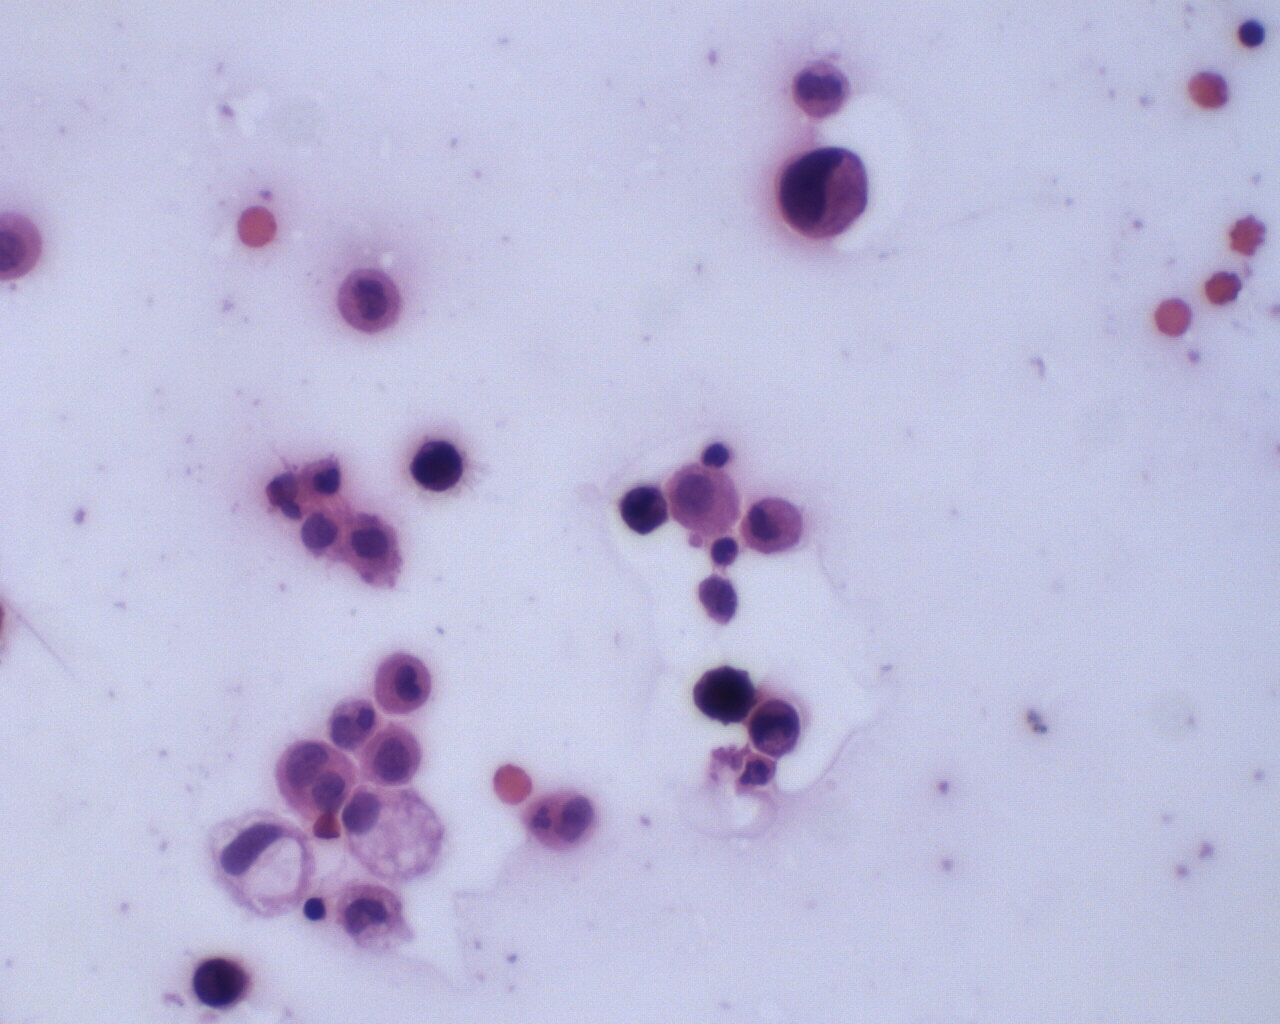ab: (778, 142, 874, 245), (690, 662, 759, 728), (747, 694, 807, 758)
histo: (343, 783, 448, 881)
lymph: (1230, 15, 1272, 59)
meso: (338, 509, 415, 588), (331, 261, 409, 338), (666, 458, 739, 538), (360, 720, 428, 787)
